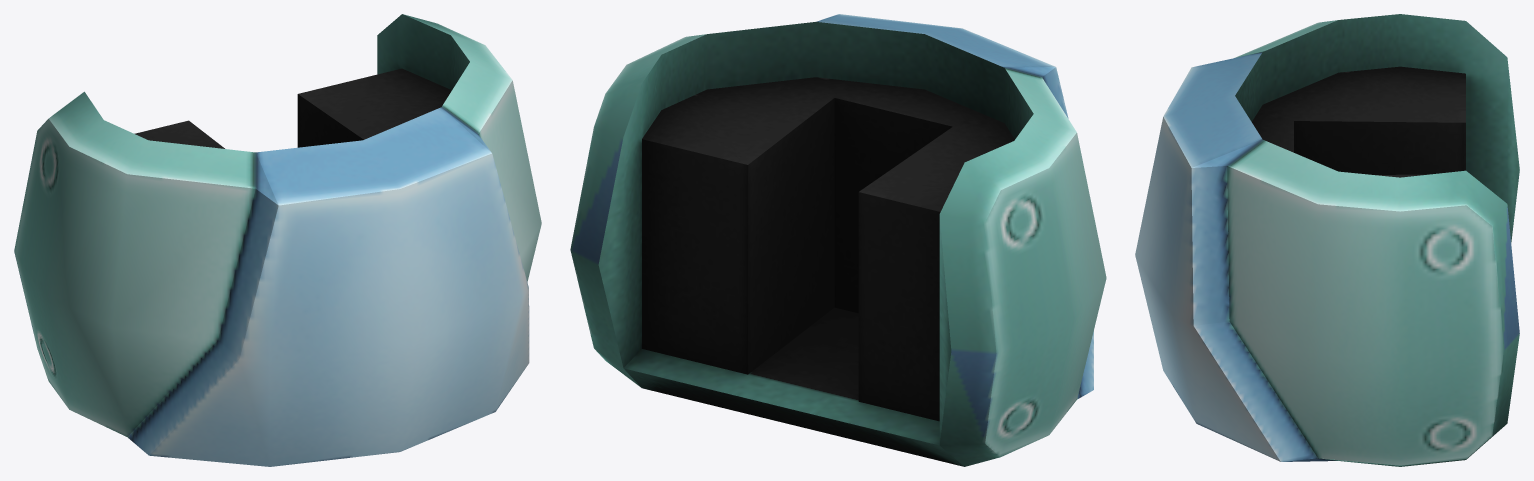
The model's file is Shoulder_Left.obj.
The picture shows the model from 3 angles, left to right: view 1: azimuth 30°, elevation 25°; view 2: azimuth 150°, elevation 25°; view 3: azimuth 270°, elevation 25°; orthographic projection. The views are drawn at different scales.
Visible parts, largest first — view 1: Shoulder_Left; view 2: Shoulder_Left; view 3: Shoulder_Left.
Part boxes in pixels (left/top/right/bottom): Shoulder_Left: left=14, top=14, right=541, bottom=466; Shoulder_Left: left=570, top=14, right=1106, bottom=466; Shoulder_Left: left=1135, top=14, right=1519, bottom=466.
Bounding box in the file's own units: 0.1646 × 0.1017 × 0.1226.
1 material, 1 textured.
